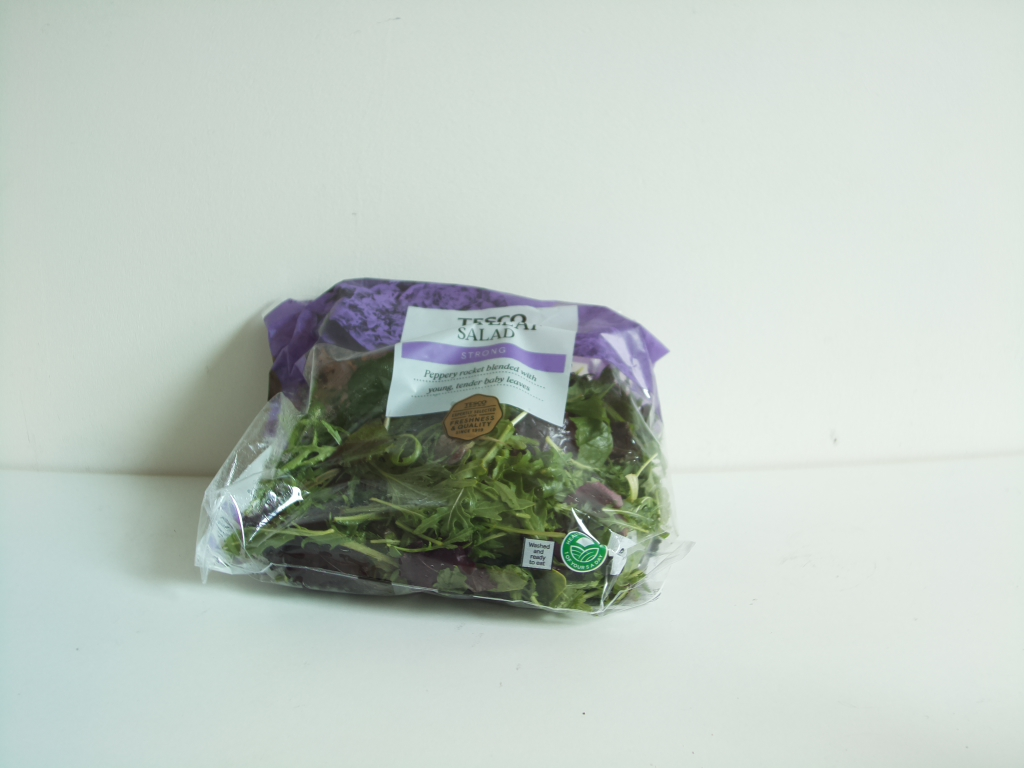salad: (194, 275, 675, 614)
